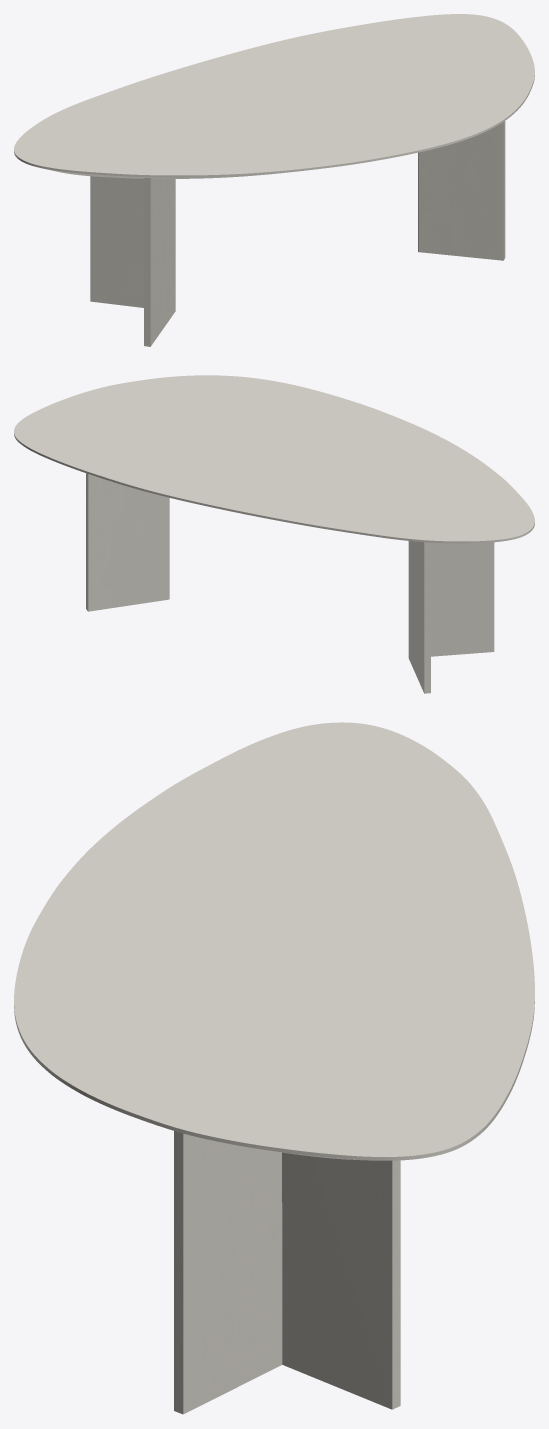
Rendered from pale_pebbletop_facet_valleyv.glb.
The picture shows the model from 3 angles, top to bottom: view 1: azimuth 30°, elevation 25°; view 2: azimuth 150°, elevation 25°; view 3: azimuth 270°, elevation 25°; orthographic projection. The views are drawn at different scales.
Visible parts, largest first — view 1: facet_pebbletop, valleyv; view 2: facet_pebbletop, valleyv; view 3: facet_pebbletop, valleyv.
Part boxes in pixels (<box>): facet_pebbletop: <box>14,14,534,178</box>; valleyv: <box>90,121,505,346</box>; facet_pebbletop: <box>14,375,534,543</box>; valleyv: <box>86,473,494,693</box>; facet_pebbletop: <box>14,722,534,1160</box>; valleyv: <box>174,1131,400,1414</box>.
Bounding box in the file's own units: 7.5 × 2.5 × 3.8.
Materials: 1 (1 with a texture image).
